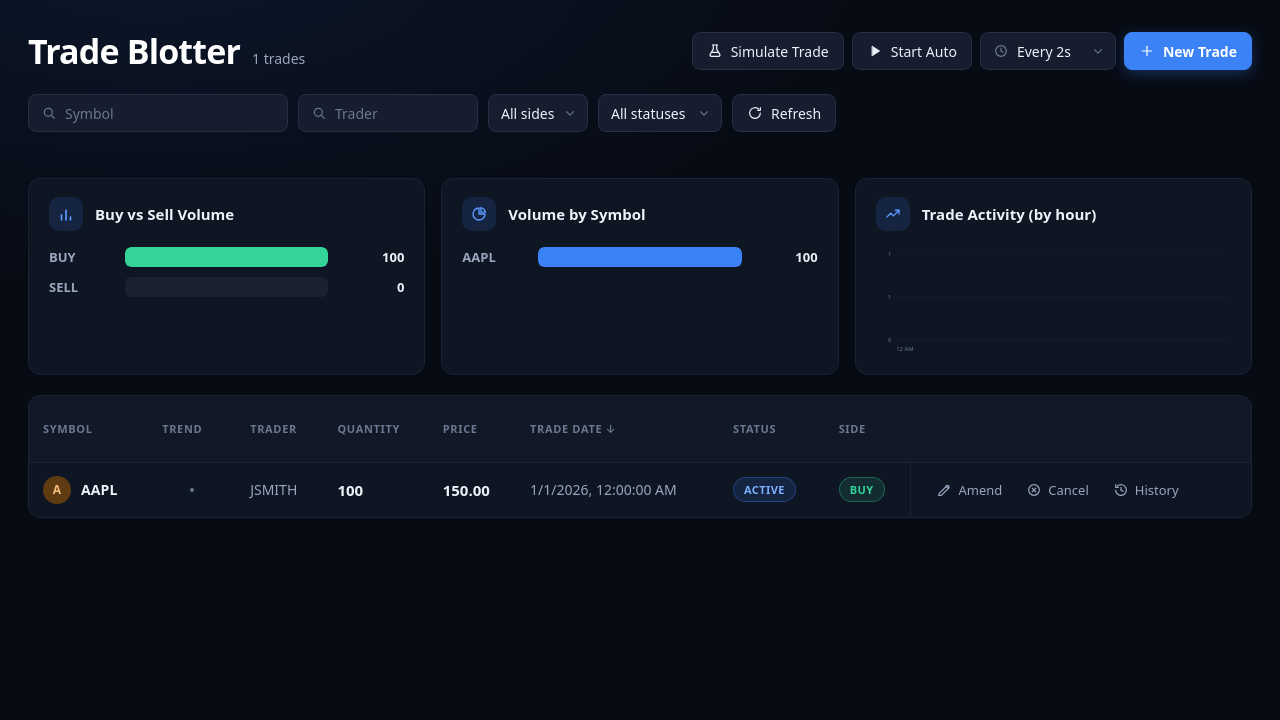
Test case: TradeBlotterPage › names the trade in a cancel failure, since the message renders away from the row
Click the button "Cancel" at [1058, 490], box top-left (1015, 475), bottom-right (1100, 505)
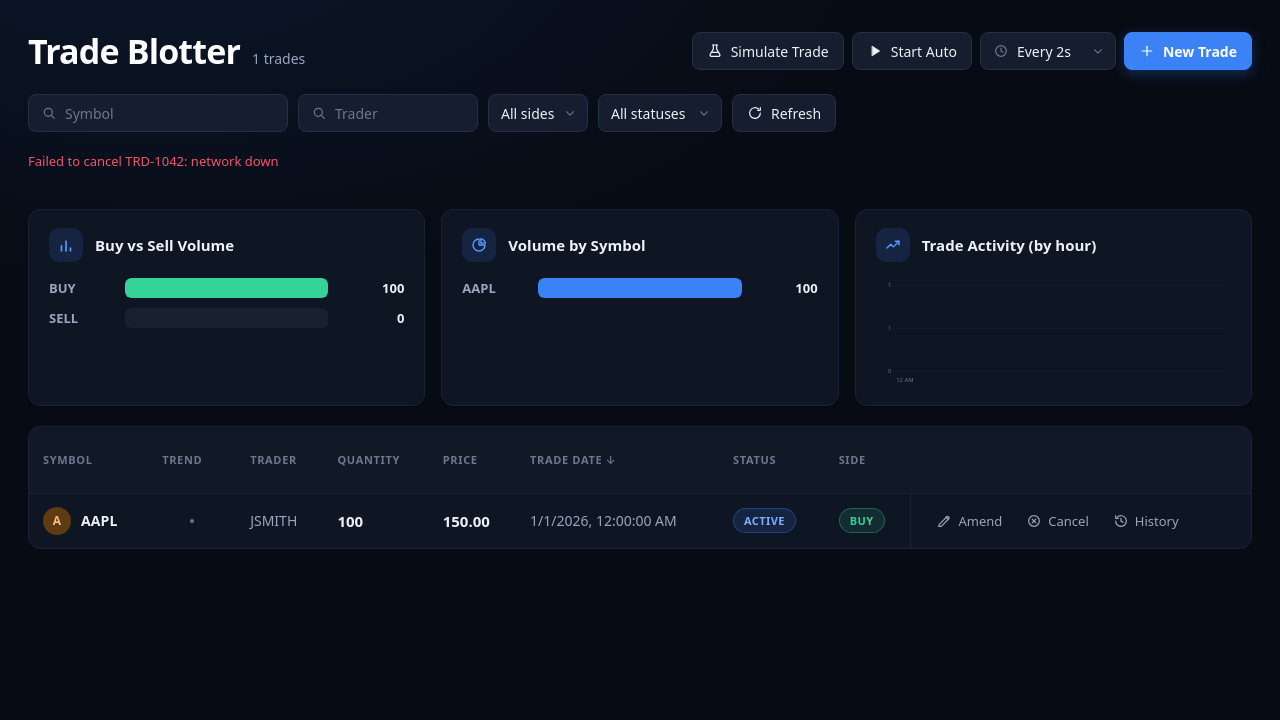
Expected: the button "Cancel" is enabled, top-left (1015, 506), bottom-right (1100, 536)
Now the text "Failed to cancel TRD-1042: network down" is shown, box top-left (28, 152), bottom-right (279, 170)
